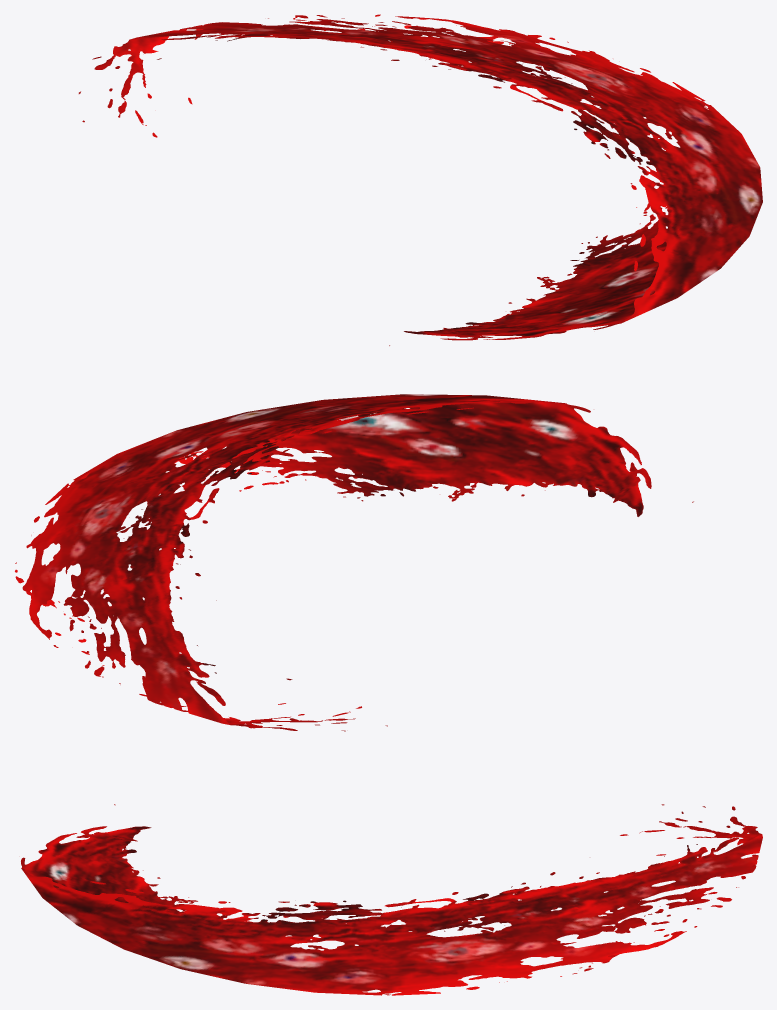
The model's file is RedMistSwordSwingMesh.fbx.
3 views of the same model, one above another, from view 1: azimuth 30°, elevation 25°; view 2: azimuth 150°, elevation 25°; view 3: azimuth 270°, elevation 25° (orthographic). The views are drawn at different scales.
Visible parts, largest first — view 1: meshSwordSwing; view 2: meshSwordSwing; view 3: meshSwordSwing.
Part boxes in pixels (x1,y1,x2,y2): meshSwordSwing: (78,14,762,345); meshSwordSwing: (15,394,693,731); meshSwordSwing: (21,804,762,995).
Size of the model in its own units: 2.41 by 0.2769 by 3.49.
